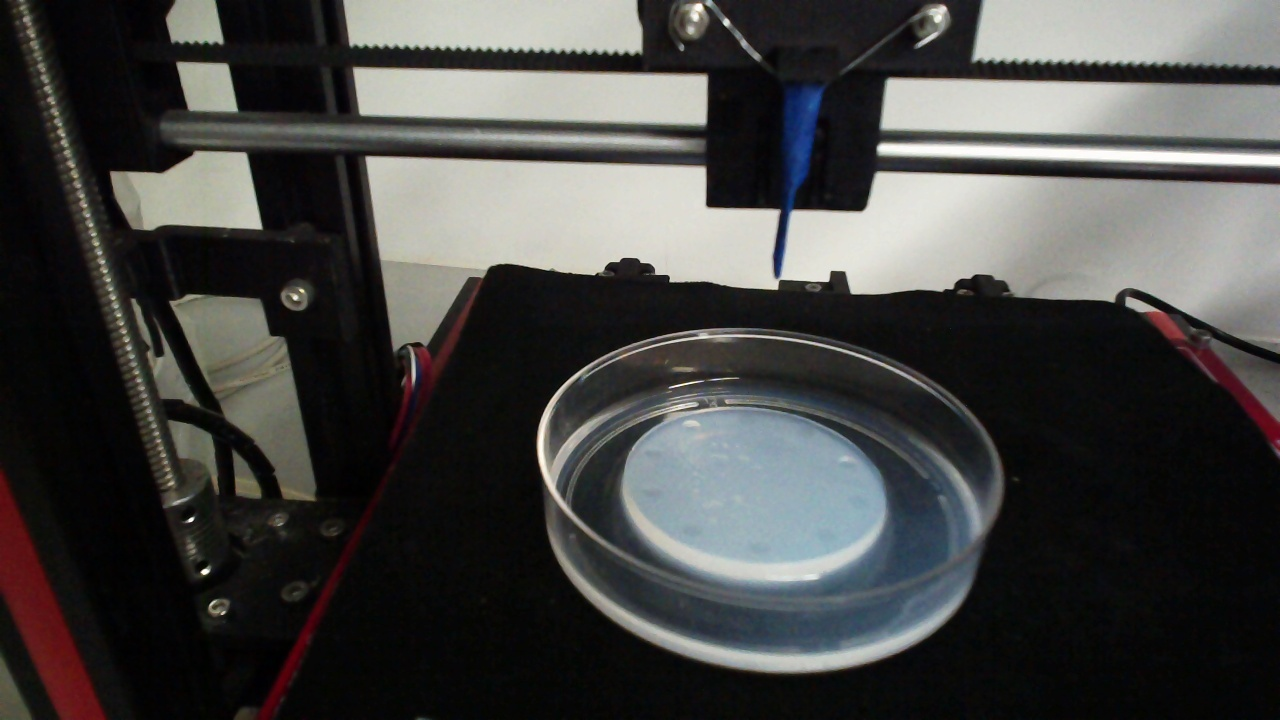groove: (849, 492, 871, 513), (746, 540, 771, 556), (679, 522, 701, 540), (813, 525, 836, 541), (794, 423, 815, 440), (680, 418, 701, 433), (836, 455, 857, 470), (736, 413, 758, 427), (642, 448, 664, 461), (639, 486, 658, 499)
needle: (775, 86, 822, 280)
